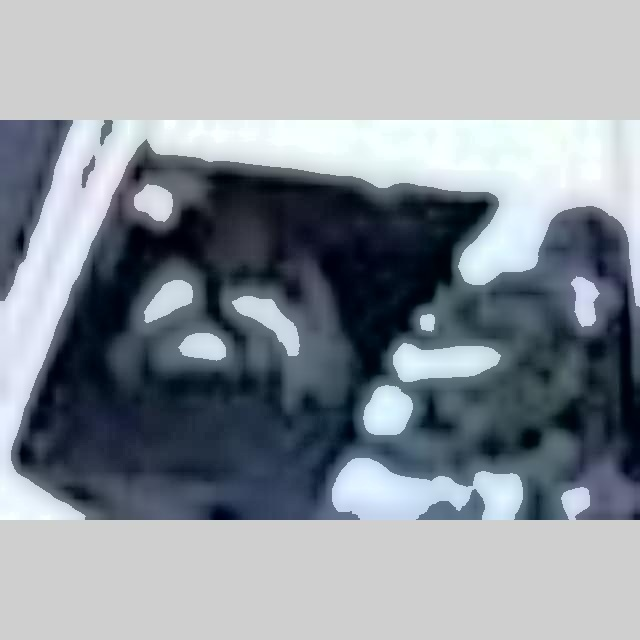pakai: (116, 182, 329, 413)
